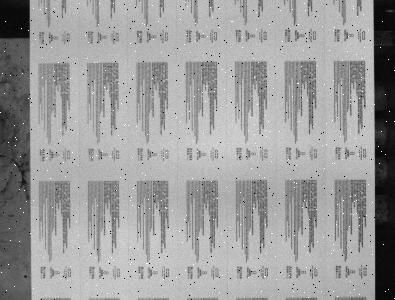backgroundclutter: (24, 275, 27, 278)
